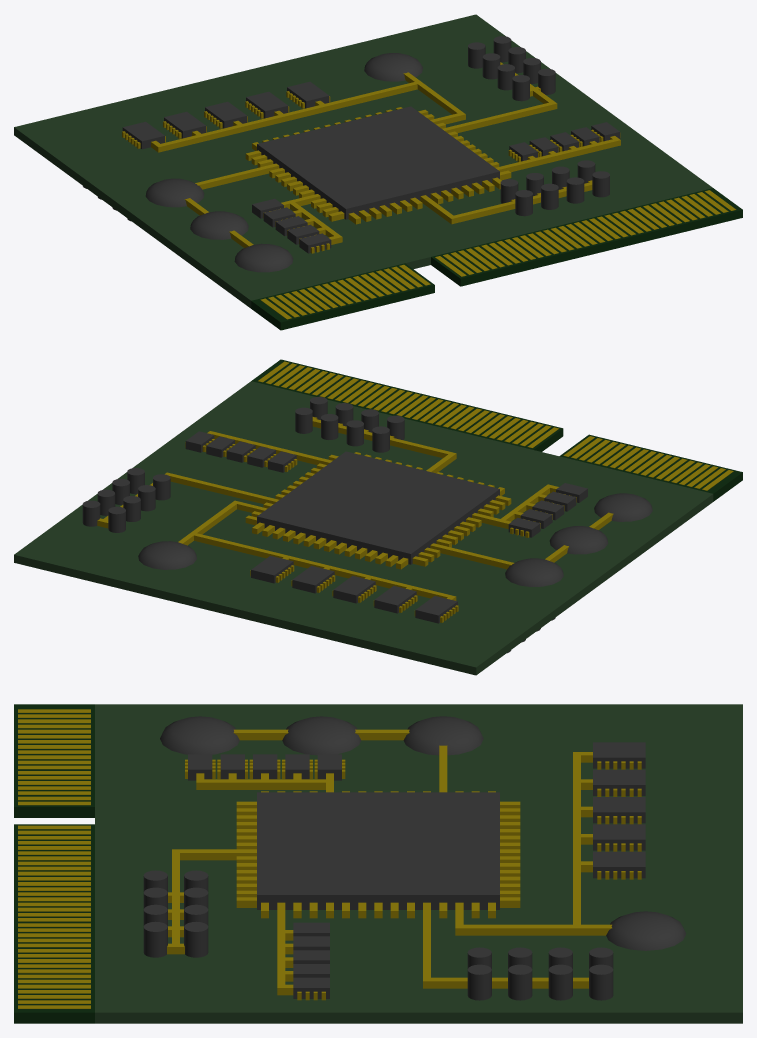
File: station_wiring.glb
3 renders of one model, top to bottom at view 1: azimuth 30°, elevation 25°; view 2: azimuth 150°, elevation 25°; view 3: azimuth 270°, elevation 25°, orthographic. The views are drawn at different scales.
Visible parts, largest first — view 1: Cube_0; view 2: Cube_0; view 3: Cube_0.
Boxes of the visible parts, bbox=[...] form: Cube_0: bbox=[14, 14, 742, 330]; Cube_0: bbox=[14, 359, 742, 675]; Cube_0: bbox=[14, 704, 742, 1023].
Bounding box in the file's own units: 0.1538 × 0.0145 × 0.1538.
